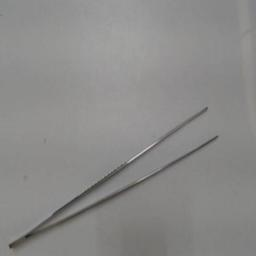DeBakey Dissector: (3, 102, 233, 254)
